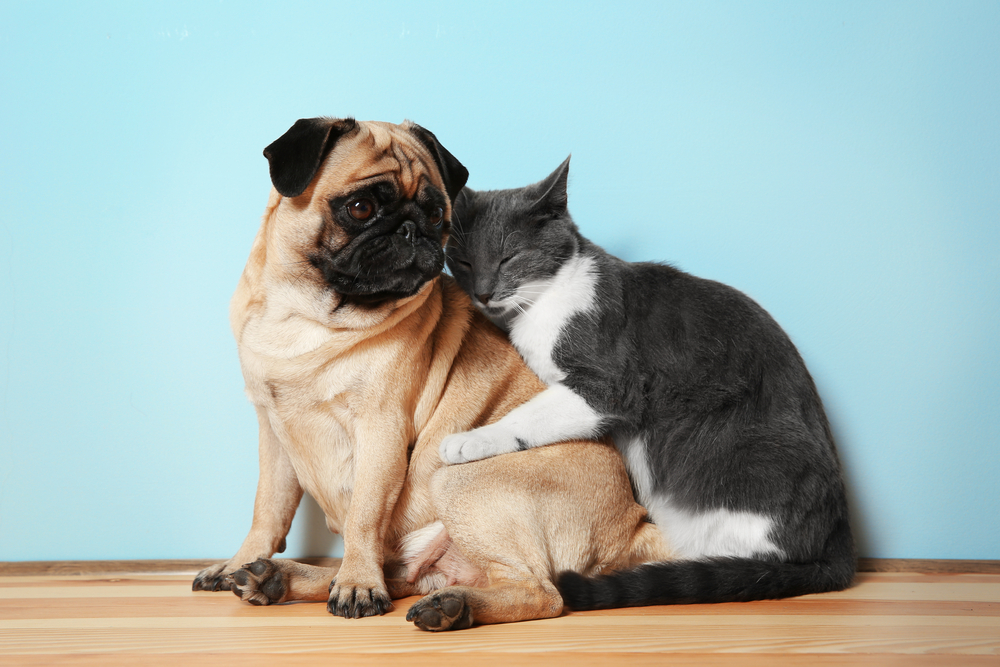Cat: (429, 148, 865, 626)
Dog: (182, 83, 667, 653)
